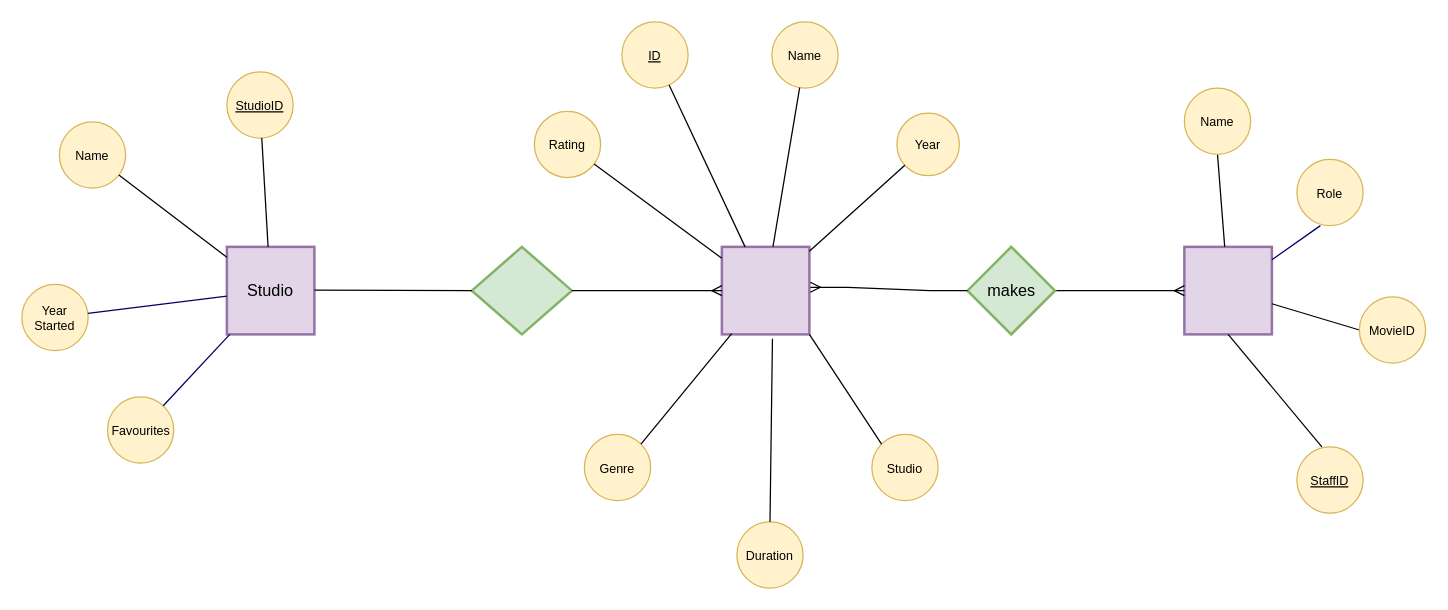
This 1448x610 diagram has some shape labels left out. Here are the shapes that lost their labels. From the top down, the centre of each, then its label:
point (521, 290): produces
point (765, 290): Movie
point (1227, 290): Staff
